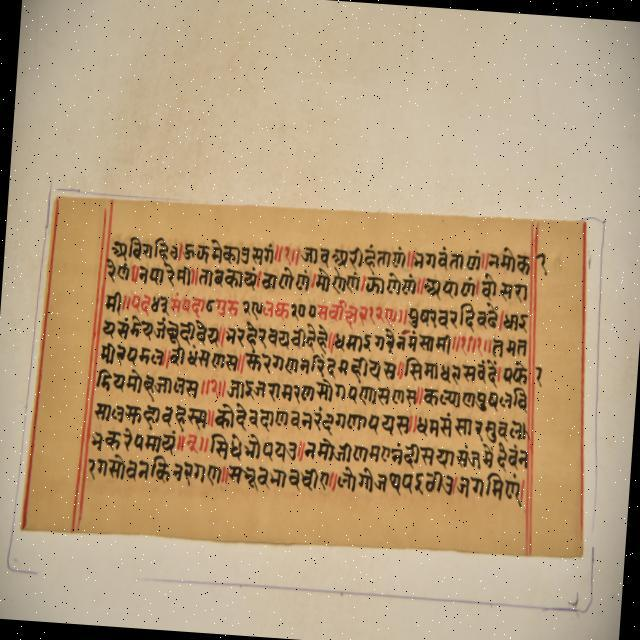text_paragraph: (19, 191, 583, 556)
